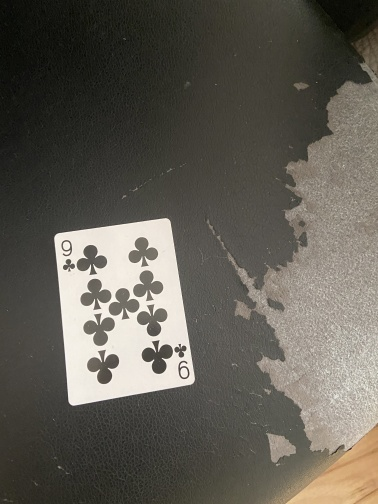nine: (53, 217, 196, 408)
